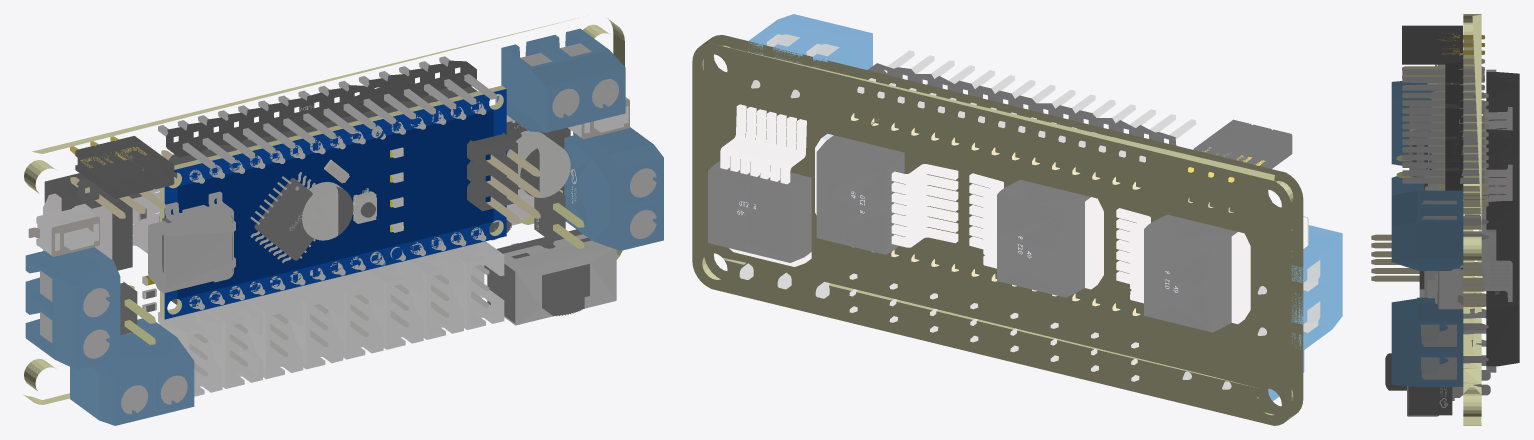
The model's file is mini22-card.glb.
3 views of the same model, side by side, from view 1: azimuth 30°, elevation 25°; view 2: azimuth 150°, elevation 25°; view 3: azimuth 270°, elevation 25° (orthographic). The views are drawn at different scales.
Parts seen in each view (by area): view 1: Node; view 2: Node; view 3: Node.
Part boxes in pixels (x1,y1,x2,y2): Node: [23, 17, 663, 425]; Node: [692, 14, 1342, 425]; Node: [1371, 14, 1519, 425].
Bounding box in the file's own units: 298 × 118 × 80.99.
